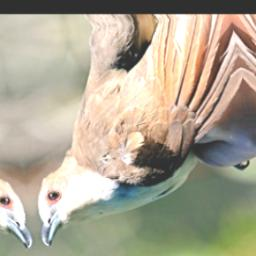Cuckoo: (3, 14, 256, 248)
